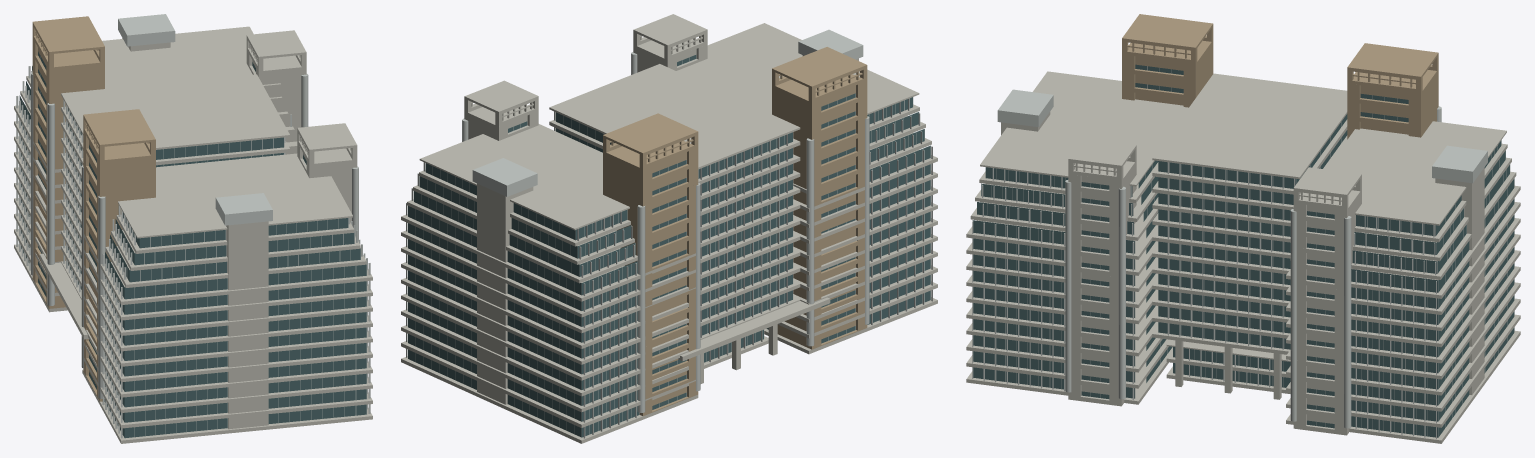
File: edificio-inteligente-epm-near.glb
3 renders of one model, left to right at view 1: azimuth 30°, elevation 25°; view 2: azimuth 150°, elevation 25°; view 3: azimuth 270°, elevation 25°, orthographic. The views are drawn at different scales.
Visible parts, largest first — view 1: edificio-inteligente-epm-0-concrete, edificio-inteligente-epm-0-glass, edificio-inteligente-epm-0-core, edificio-inteligente-epm-0-aluminium; view 2: edificio-inteligente-epm-0-concrete, edificio-inteligente-epm-0-glass, edificio-inteligente-epm-0-core, edificio-inteligente-epm-0-aluminium; view 3: edificio-inteligente-epm-0-concrete, edificio-inteligente-epm-0-glass, edificio-inteligente-epm-0-aluminium, edificio-inteligente-epm-0-core.
Boxes of the visible parts, box(x1,y1,x2,y2) form: edificio-inteligente-epm-0-concrete: box(14, 26, 372, 443); edificio-inteligente-epm-0-glass: box(19, 51, 366, 438); edificio-inteligente-epm-0-core: box(32, 16, 155, 401); edificio-inteligente-epm-0-aluminium: box(16, 14, 370, 438); edificio-inteligente-epm-0-concrete: box(401, 14, 937, 443); edificio-inteligente-epm-0-glass: box(408, 55, 930, 437); edificio-inteligente-epm-0-core: box(603, 47, 867, 415); edificio-inteligente-epm-0-aluminium: box(406, 29, 932, 438); edificio-inteligente-epm-0-concrete: box(966, 71, 1520, 443); edificio-inteligente-epm-0-glass: box(972, 64, 1514, 437); edificio-inteligente-epm-0-aluminium: box(972, 66, 1514, 439); edificio-inteligente-epm-0-core: box(1122, 14, 1438, 139).
Bounding box in the file's own units: 94.16 × 70 × 129.
